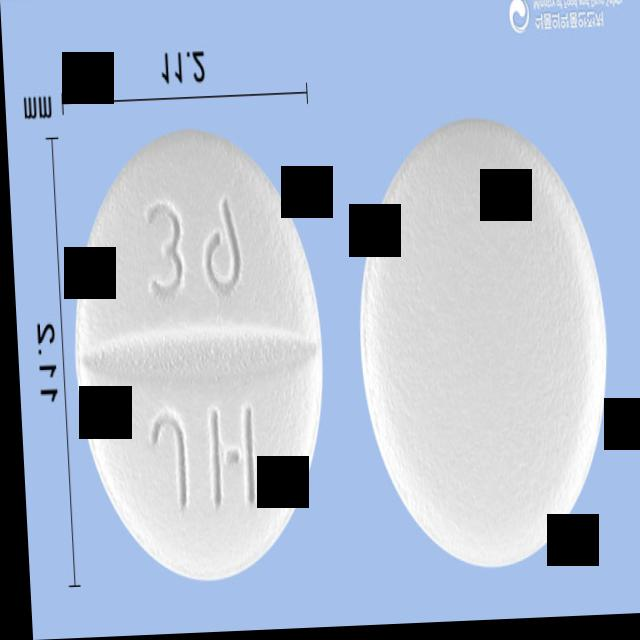Ciflox - 250mg: (342, 113, 617, 584), (59, 123, 331, 597)
